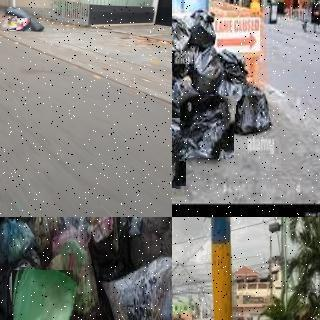Garbage: (101, 235, 172, 320), (179, 95, 236, 159), (8, 268, 76, 320), (222, 82, 274, 134), (0, 219, 36, 264), (184, 8, 220, 50), (191, 47, 223, 93), (172, 116, 188, 187), (172, 13, 193, 56), (9, 17, 31, 32), (2, 16, 17, 30)
